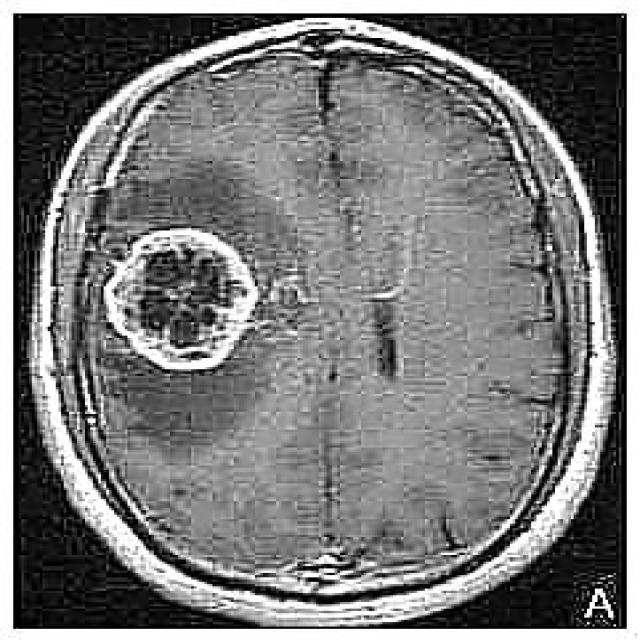Tumor-Cell: (96, 236, 252, 370)
